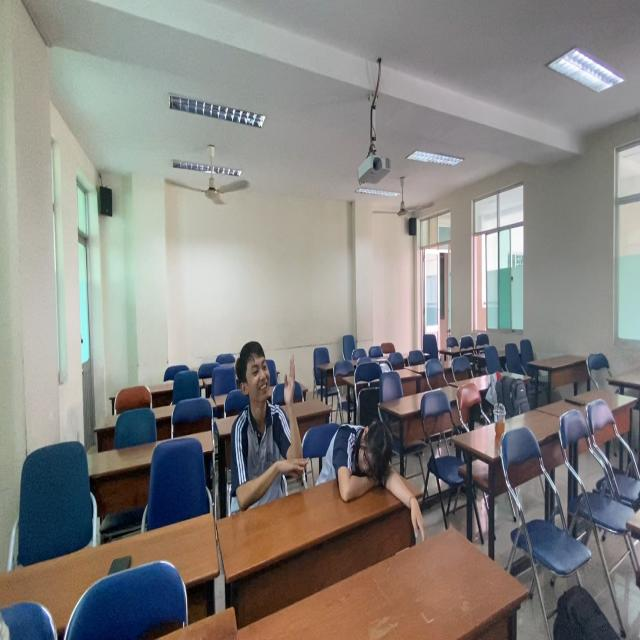raise_hand: (236, 338, 309, 517)
sleep: (322, 416, 431, 514)
